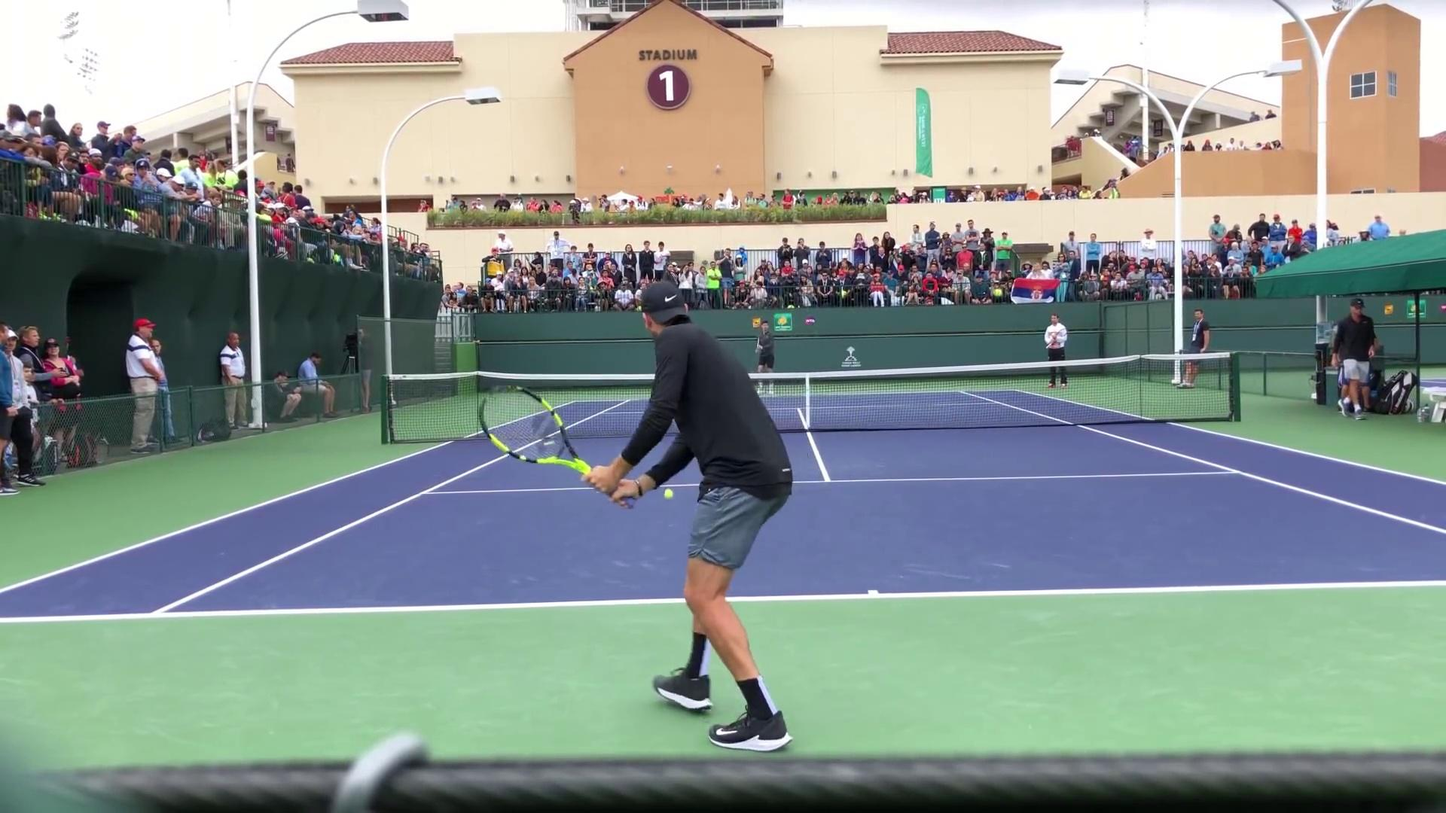ball: (662, 489, 676, 498)
